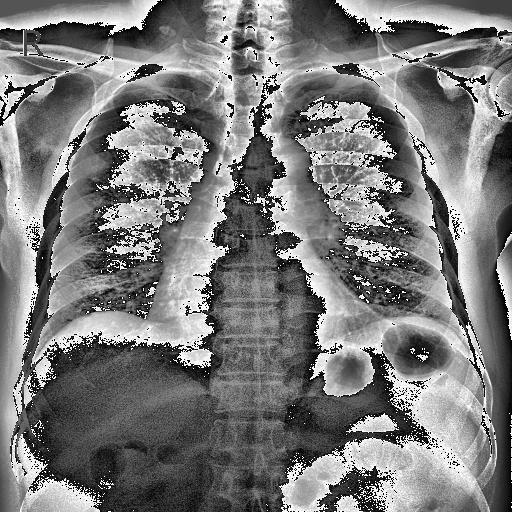0- Aortic enlargement: (241, 138, 322, 212), (249, 137, 321, 216), (251, 134, 321, 206)
3- Cardiomegaly: (142, 273, 389, 346), (152, 269, 382, 336), (142, 302, 382, 340)
